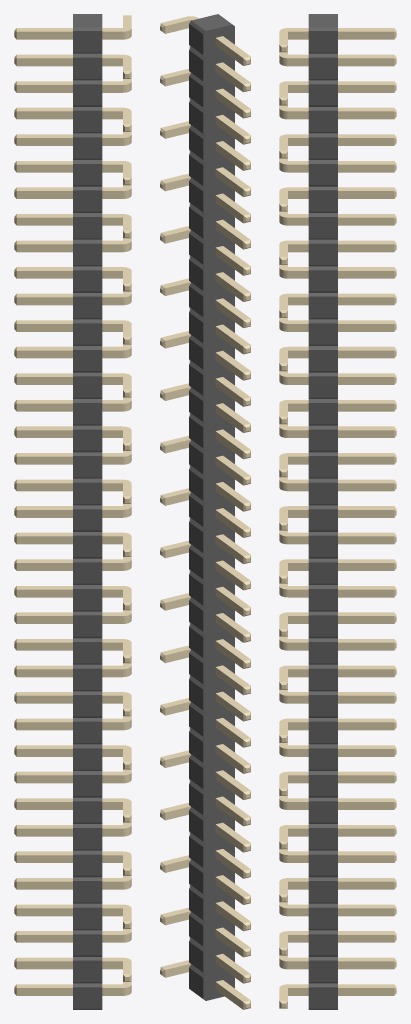
Rendered from PinHeader_1x37_P1.00mm_Vertical_SMD_Pin1Left.glb.
3 renders of one model, left to right at view 1: azimuth 90°, elevation 25°; view 2: azimuth 210°, elevation 25°; view 3: azimuth 270°, elevation 25°, orthographic.
Parts seen in each view (by area): view 1: Shape_IndexedFaceSet.031, Shape_IndexedFaceSet.043, Shape_IndexedFaceSet.073, Shape_IndexedFaceSet.085, Shape_IndexedFaceSet.127, Shape_IndexedFaceSet.139, Shape_IndexedFaceSet.169, Shape_IndexedFaceSet.181, Shape_IndexedFaceSet.223, Shape_IndexedFaceSet.007, Shape_IndexedFaceSet.013, Shape_IndexedFaceSet.019 (+63 smaller); view 2: Shape_IndexedFaceSet.004, Shape_IndexedFaceSet.001, Shape_IndexedFaceSet.022, Shape_IndexedFaceSet.076, Shape_IndexedFaceSet.106, Shape_IndexedFaceSet.130, Shape_IndexedFaceSet.160, Shape_IndexedFaceSet.184, Shape_IndexedFaceSet.214, Shape_IndexedFaceSet.010, Shape_IndexedFaceSet.016, Shape_IndexedFaceSet.028 (+64 smaller); view 3: Shape_IndexedFaceSet.028, Shape_IndexedFaceSet.040, Shape_IndexedFaceSet.070, Shape_IndexedFaceSet.082, Shape_IndexedFaceSet.124, Shape_IndexedFaceSet.136, Shape_IndexedFaceSet.166, Shape_IndexedFaceSet.178, Shape_IndexedFaceSet.220, Shape_IndexedFaceSet.002, Shape_IndexedFaceSet.010, Shape_IndexedFaceSet.016 (+63 smaller).
Boxes of the visible parts, x1,y1,x2,y2 form: Shape_IndexedFaceSet.031: (73, 137, 102, 158); Shape_IndexedFaceSet.043: (73, 190, 102, 211); Shape_IndexedFaceSet.073: (73, 323, 102, 344); Shape_IndexedFaceSet.085: (73, 376, 102, 397); Shape_IndexedFaceSet.127: (73, 562, 102, 583); Shape_IndexedFaceSet.139: (73, 615, 102, 636); Shape_IndexedFaceSet.169: (73, 748, 102, 769); Shape_IndexedFaceSet.181: (73, 801, 102, 822); Shape_IndexedFaceSet.223: (73, 987, 102, 1008); Shape_IndexedFaceSet.007: (73, 31, 102, 52); Shape_IndexedFaceSet.013: (73, 57, 102, 78); Shape_IndexedFaceSet.019: (73, 84, 102, 105); Shape_IndexedFaceSet.004: (203, 24, 234, 1000); Shape_IndexedFaceSet.001: (191, 14, 232, 30); Shape_IndexedFaceSet.022: (189, 102, 203, 133); Shape_IndexedFaceSet.076: (189, 338, 203, 369); Shape_IndexedFaceSet.106: (189, 470, 203, 500); Shape_IndexedFaceSet.130: (189, 574, 203, 605); Shape_IndexedFaceSet.160: (189, 705, 203, 736); Shape_IndexedFaceSet.184: (189, 810, 203, 841); Shape_IndexedFaceSet.214: (189, 941, 203, 972); Shape_IndexedFaceSet.010: (189, 50, 203, 80); Shape_IndexedFaceSet.016: (189, 76, 203, 107); Shape_IndexedFaceSet.028: (189, 129, 203, 159); Shape_IndexedFaceSet.028: (308, 137, 337, 158); Shape_IndexedFaceSet.040: (308, 190, 337, 211); Shape_IndexedFaceSet.070: (308, 323, 337, 344); Shape_IndexedFaceSet.082: (308, 376, 337, 397); Shape_IndexedFaceSet.124: (308, 562, 337, 583); Shape_IndexedFaceSet.136: (308, 615, 337, 636); Shape_IndexedFaceSet.166: (308, 748, 337, 769); Shape_IndexedFaceSet.178: (308, 801, 337, 822); Shape_IndexedFaceSet.220: (308, 987, 337, 1008); Shape_IndexedFaceSet.002: (308, 31, 337, 52); Shape_IndexedFaceSet.010: (308, 57, 337, 78); Shape_IndexedFaceSet.016: (308, 84, 337, 105).
Bounding box in the file's own units: 0.984 × 14.57 × 1.58.
